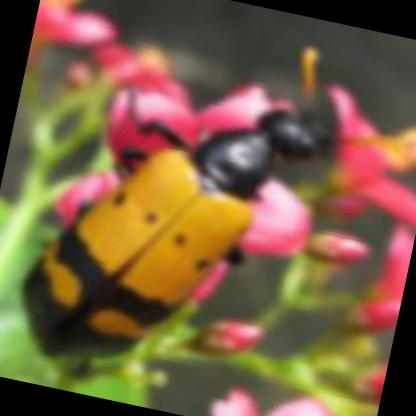blister beetle: (20, 109, 330, 356)
